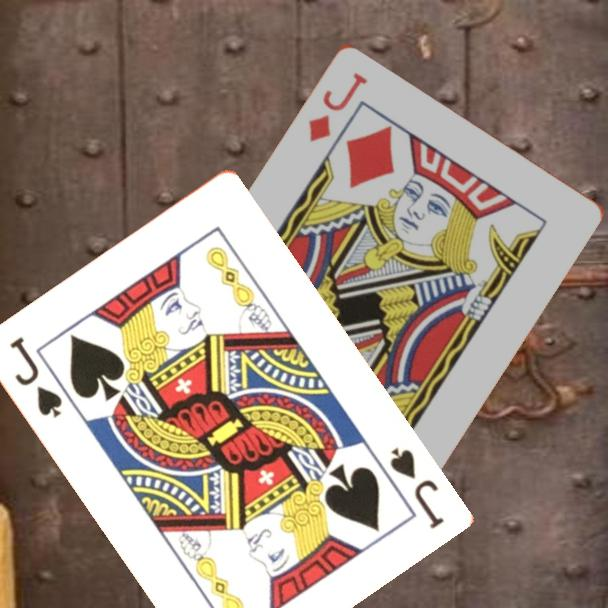d11: (304, 68, 370, 144)
s11: (385, 443, 446, 532), (5, 333, 65, 422)
